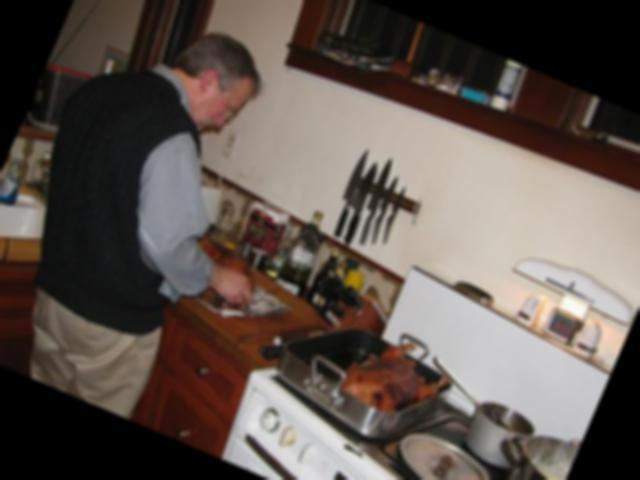Lavaplatos: (0, 151, 88, 272)
